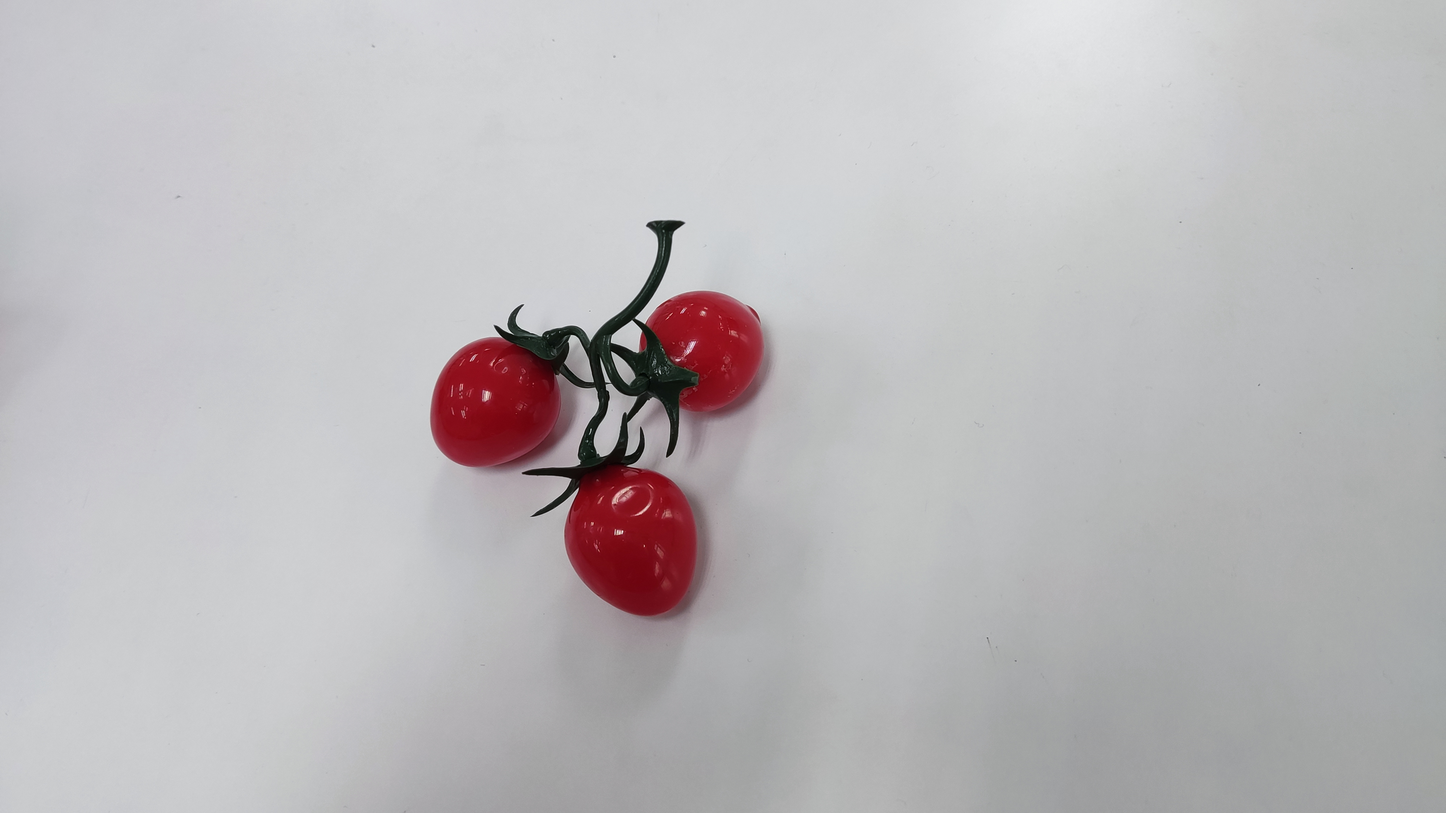peduncle: (602, 238, 672, 335)
strawberry: (564, 464, 697, 615), (429, 335, 560, 466), (646, 289, 764, 410)
